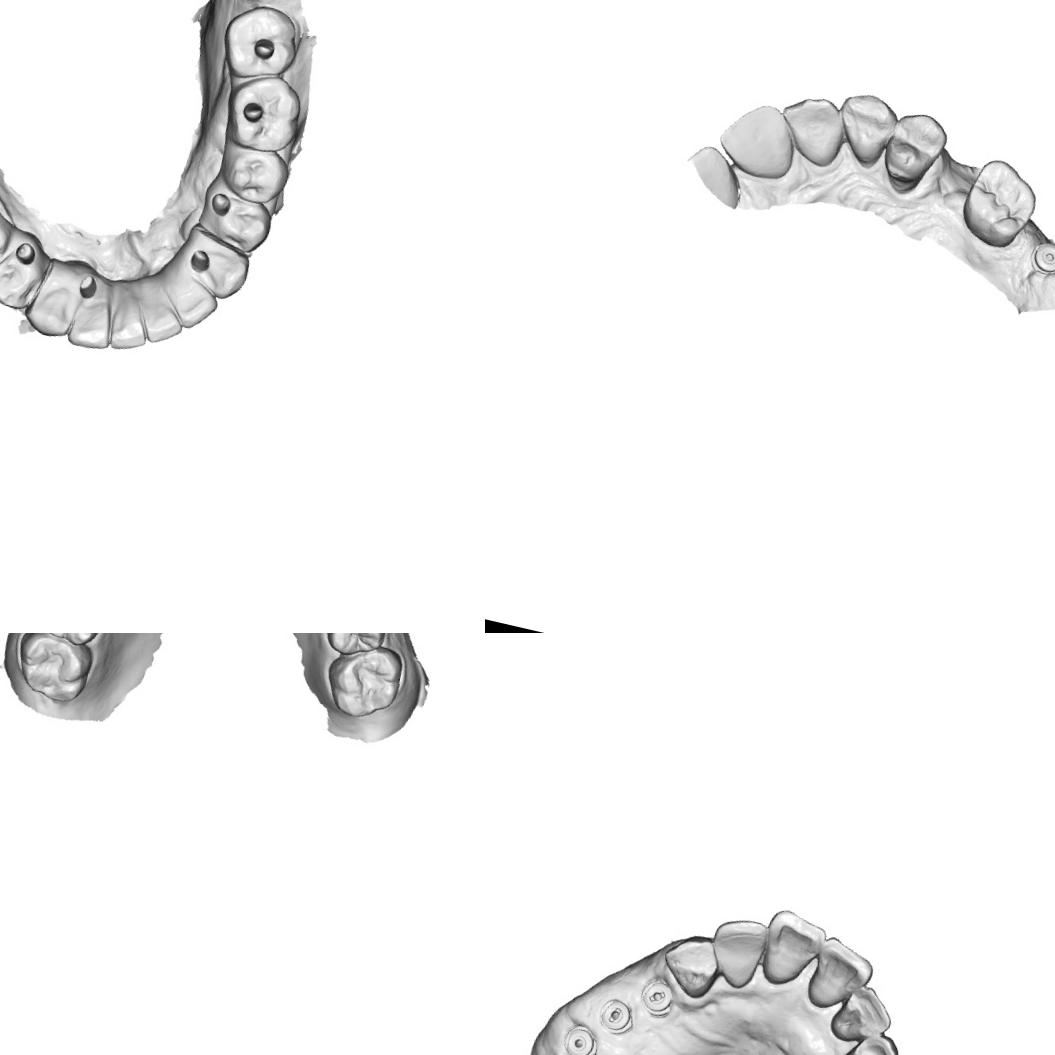canine: (167, 220, 257, 305), (828, 86, 901, 170), (18, 256, 84, 342), (656, 928, 728, 1003), (832, 1025, 907, 1055)
implant: (555, 1020, 602, 1055), (1025, 233, 1055, 282)
implant_minus: (634, 974, 678, 1022), (594, 994, 640, 1038)
incisor: (712, 94, 806, 186), (755, 905, 831, 994), (803, 933, 880, 1020), (770, 88, 851, 170), (701, 910, 772, 993), (825, 978, 899, 1049), (678, 140, 751, 210), (100, 271, 159, 356), (64, 272, 122, 356), (133, 274, 192, 348), (160, 268, 224, 336)
molar: (954, 151, 1046, 256), (216, 65, 312, 161), (213, 0, 309, 93), (318, 635, 409, 727), (7, 633, 98, 708)
premolar: (195, 182, 284, 258), (877, 106, 953, 192), (214, 139, 296, 211), (0, 223, 52, 314), (320, 633, 391, 663), (34, 633, 107, 651)
